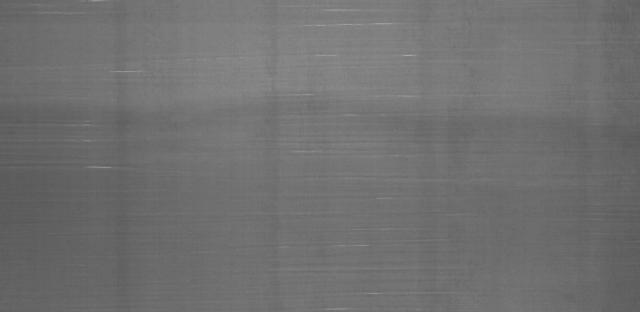waist_folding: (77, 31, 512, 269)
